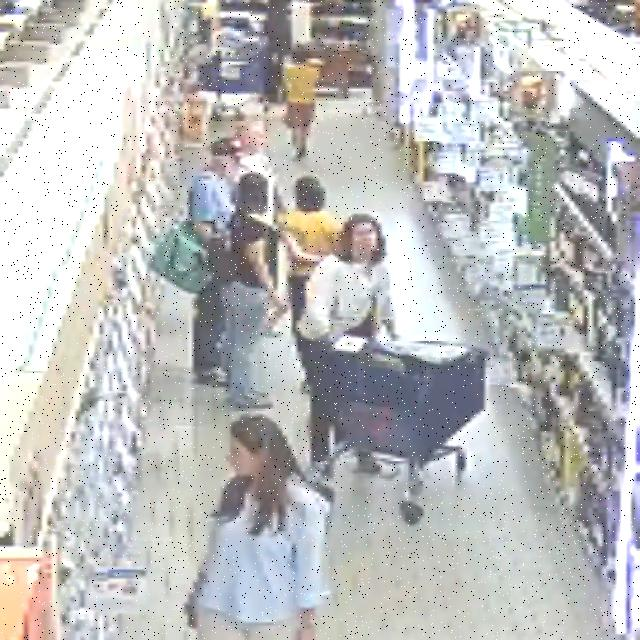article: (260, 306, 280, 332)
bags: (208, 233, 236, 285), (345, 293, 377, 338)
hands: (281, 233, 300, 260), (274, 295, 289, 314), (296, 626, 316, 639)
person: (195, 416, 330, 639), (299, 215, 396, 475), (225, 174, 288, 408), (280, 176, 340, 390), (189, 138, 237, 245), (236, 118, 284, 224)
